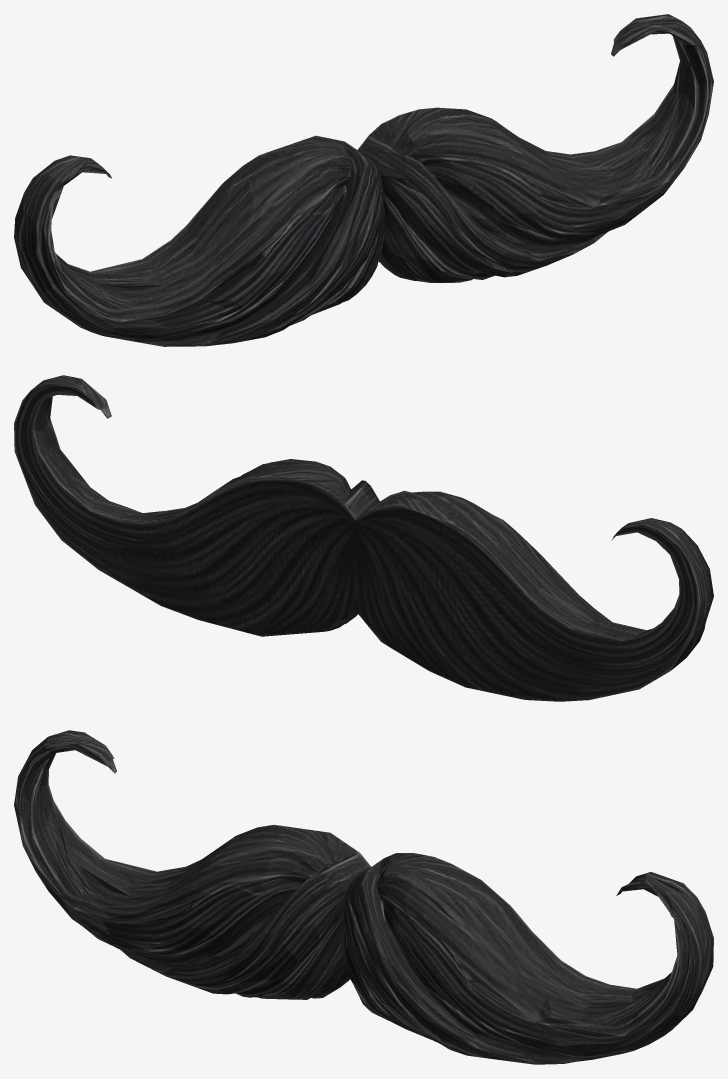
Rendered from handlebar.glb.
3 renders of one model, top to bottom at view 1: azimuth 30°, elevation 25°; view 2: azimuth 150°, elevation 25°; view 3: azimuth 330°, elevation 25°, orthographic.
Bounding box in the file's own units: 1.9 × 0.5506 × 0.2313.
Materials: 1 (1 with a texture image).
